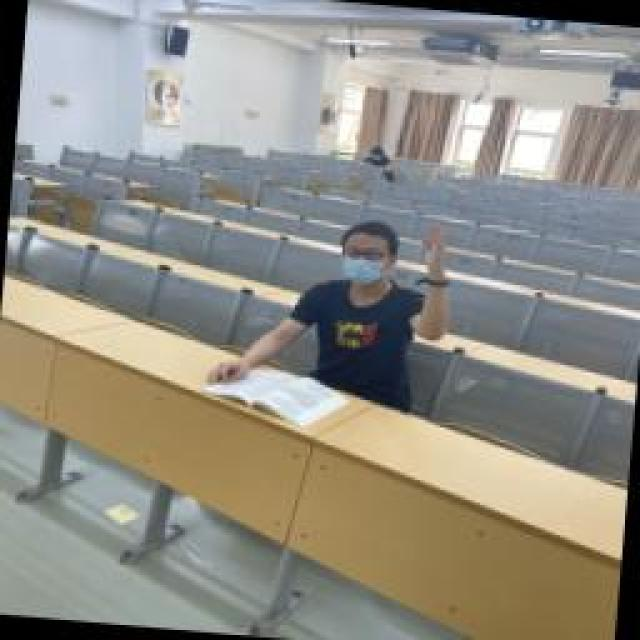study: (203, 205, 455, 430)
